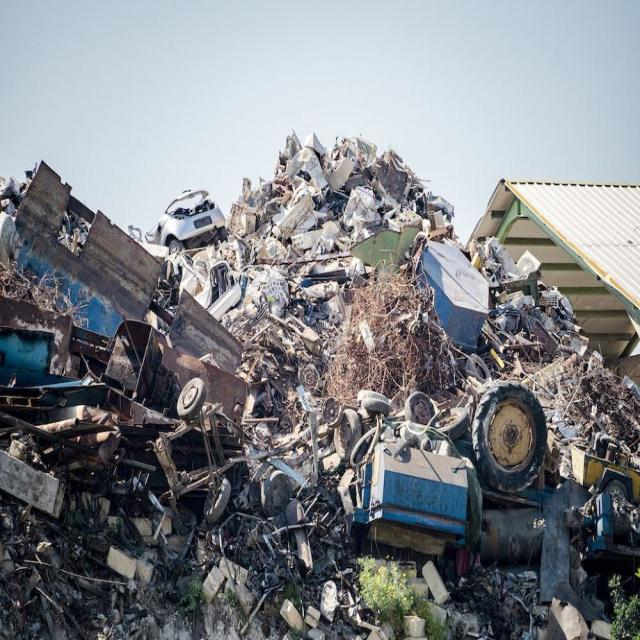metal: (9, 41, 620, 630), (23, 156, 258, 573), (354, 403, 470, 569), (396, 219, 490, 360)
